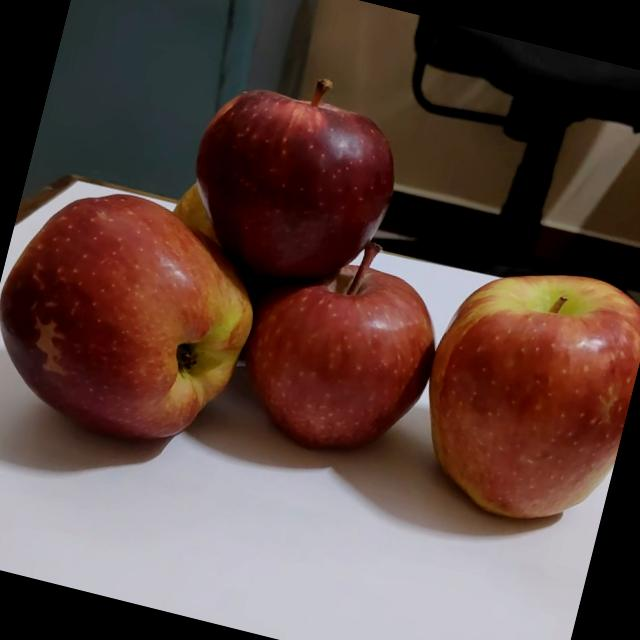apple: (0, 172, 273, 478), (391, 237, 640, 539), (168, 51, 422, 306), (212, 210, 454, 473), (148, 173, 232, 250)
